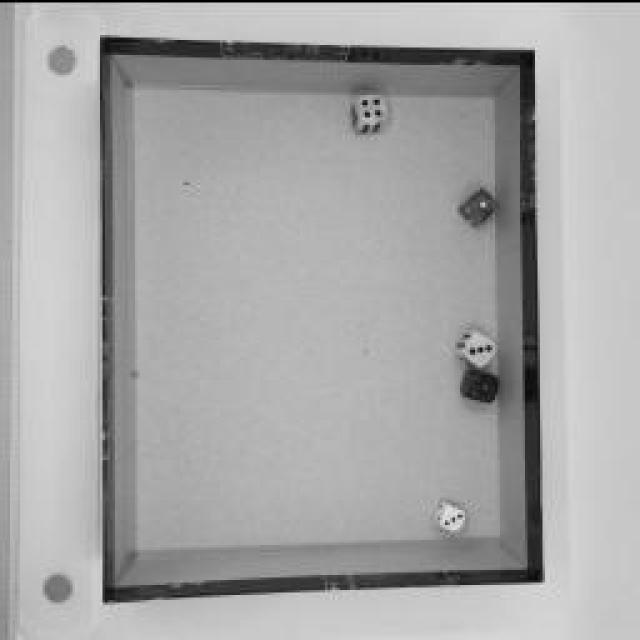dice_1: (459, 185, 499, 225), (460, 368, 500, 400)
dice_3: (456, 328, 496, 364), (435, 498, 467, 530)
dice_4: (348, 90, 388, 135)
